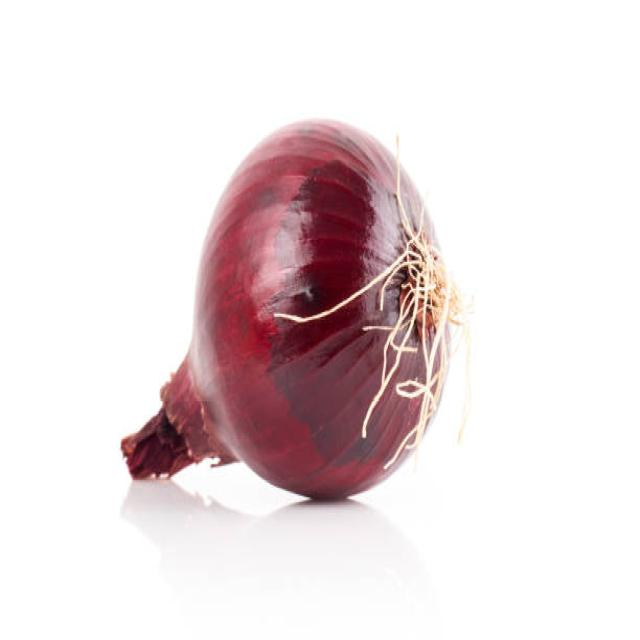onion: (168, 114, 460, 502)
